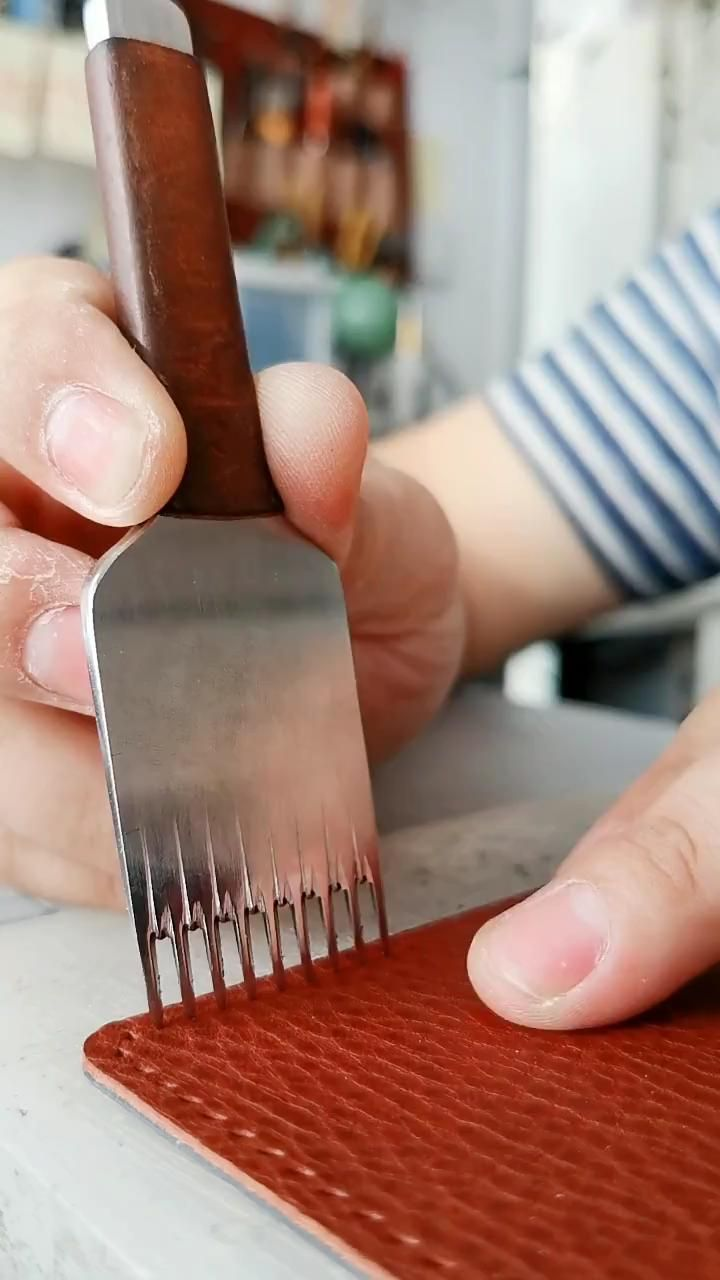cuero: (79, 878, 720, 1280)
